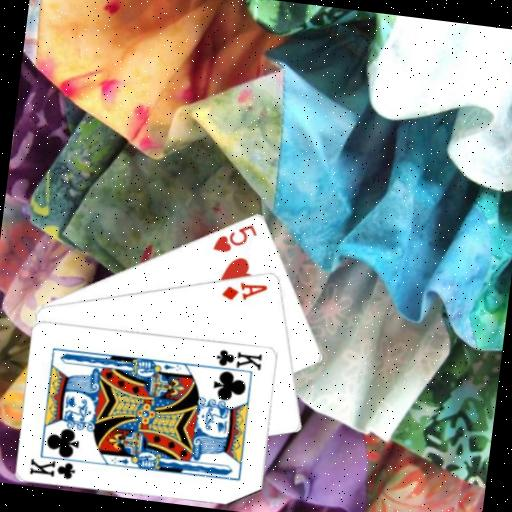5H: (209, 217, 260, 258)
AD: (219, 277, 270, 306)
KC: (26, 449, 84, 482), (208, 345, 265, 377)
